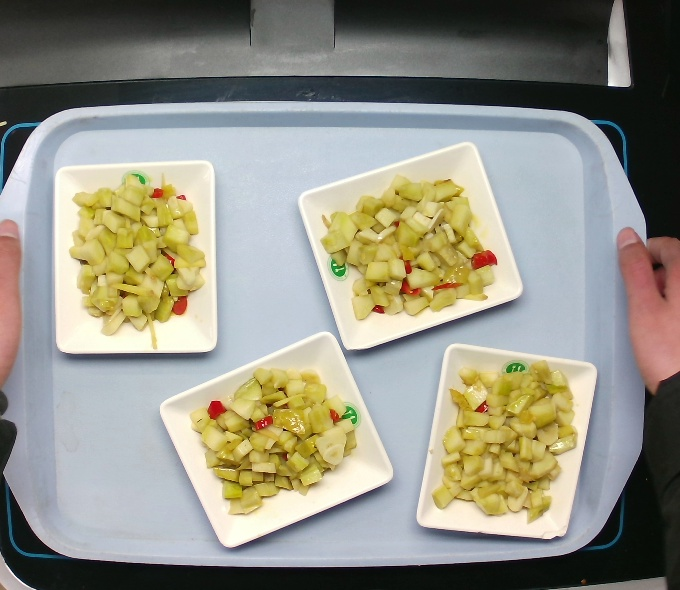wcq-YanHuaCaiGeng: (316, 174, 503, 325), (66, 172, 212, 355), (431, 364, 588, 528), (188, 370, 362, 512)
